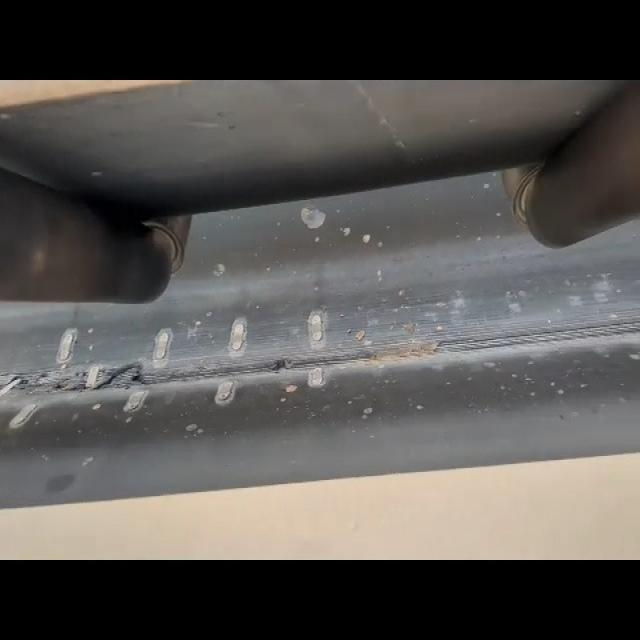Tear: (44, 360, 153, 397)
Wear: (0, 314, 640, 406)
